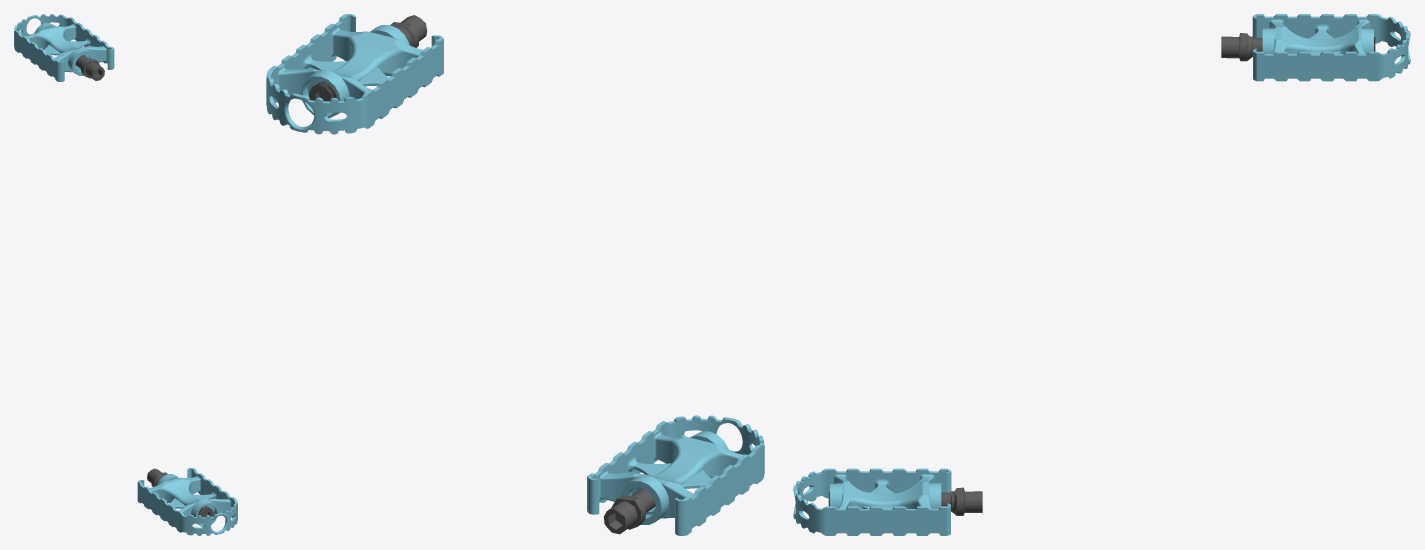
Rendered from Pedals.glb.
3 renders of one model, left to right at view 1: azimuth 30°, elevation 25°; view 2: azimuth 150°, elevation 25°; view 3: azimuth 270°, elevation 25°, orthographic. The views are drawn at different scales.
Visible parts, largest first — view 1: no_transformations (×2); view 2: no_transformations (×2); view 3: no_transformations (×2).
Boxes of the visible parts, x1=… form: no_transformations (×2): x1=14, y1=14, x2=237, y2=535; no_transformations (×2): x1=266, y1=14, x2=764, y2=535; no_transformations (×2): x1=793, y1=14, x2=1410, y2=535.
Bounding box in the file's own units: 90.61 × 364 × 399.
